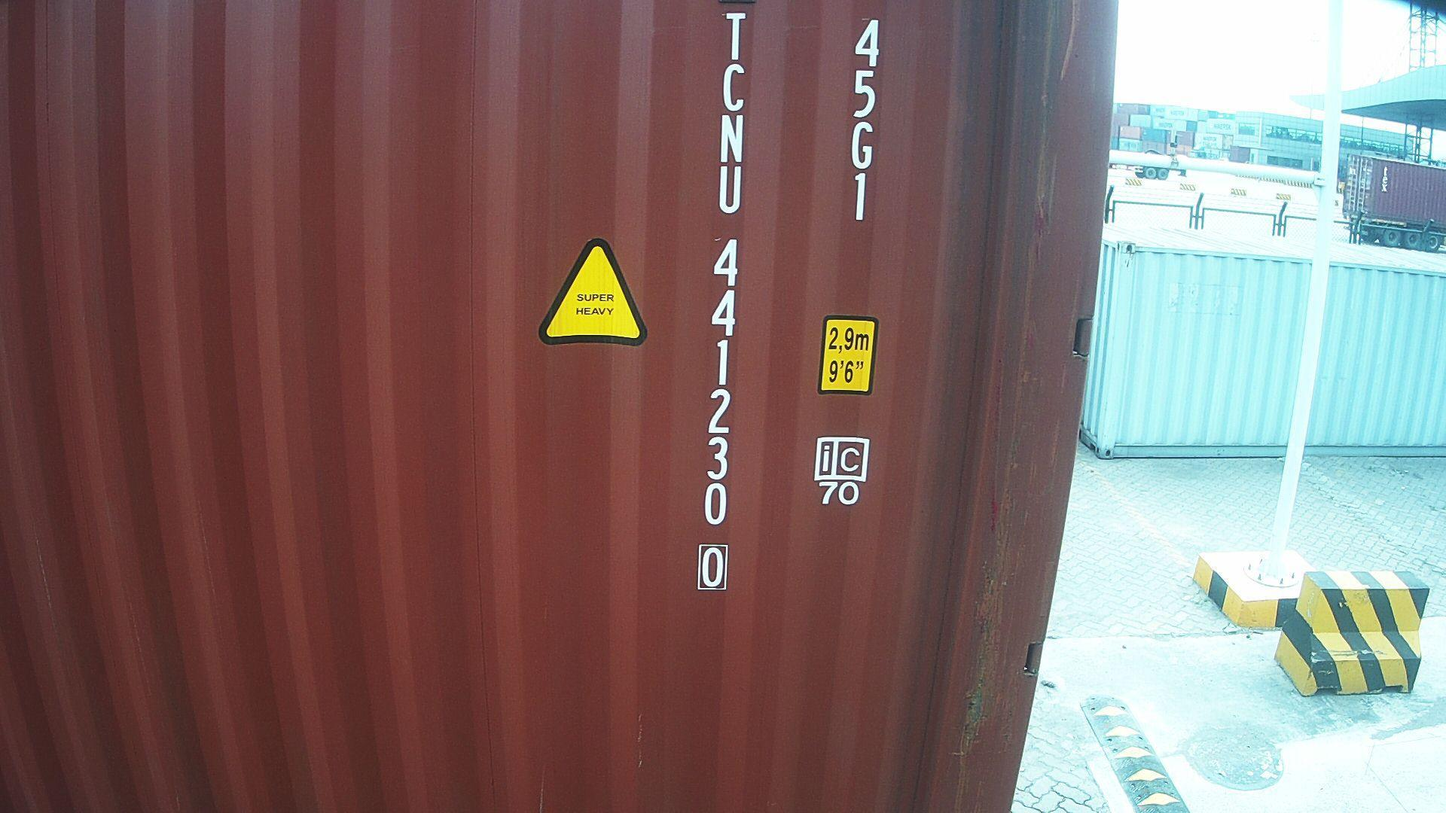container-numbers: (688, 8, 752, 598), (837, 12, 886, 231)
